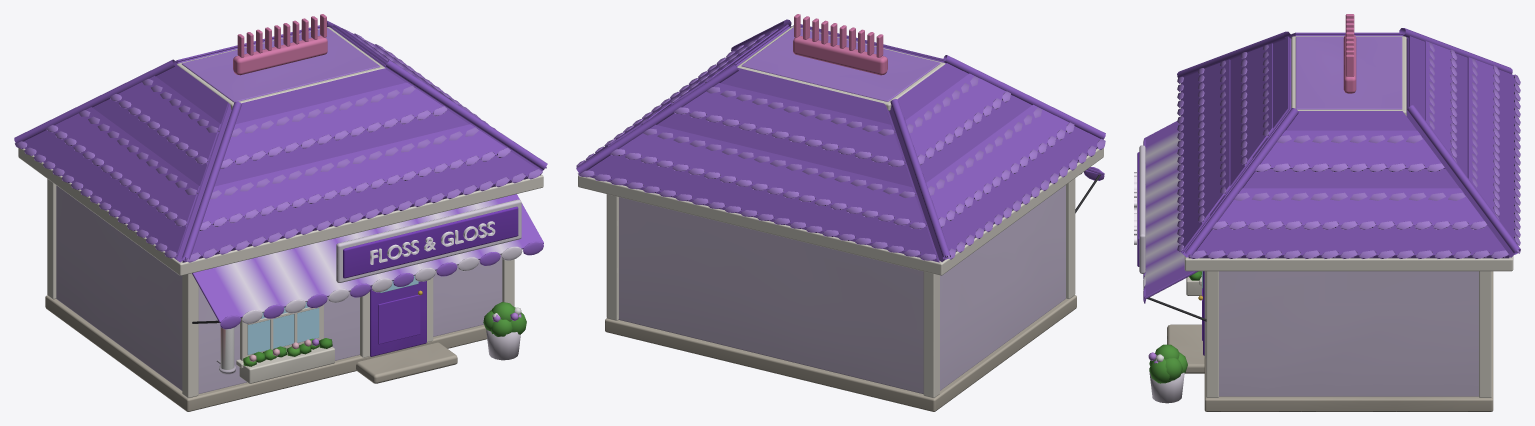
Rendered from bld_salon.glb.
3 views of the same model, side by side, from view 1: azimuth 30°, elevation 25°; view 2: azimuth 150°, elevation 25°; view 3: azimuth 270°, elevation 25° (orthographic).
Parts seen in each view (by area): view 1: bld_salon_main, bld_salon_glass, Text; view 2: bld_salon_main; view 3: bld_salon_main.
Part boxes in pixels (x1,y1,x2,y2): bld_salon_main: [14, 14, 547, 411]; bld_salon_glass: [247, 275, 418, 354]; Text: [370, 221, 495, 264]; bld_salon_main: [576, 14, 1105, 411]; bld_salon_main: [1137, 14, 1520, 411].
Size of the model in its own units: 4.11 by 3.07 by 3.62.
